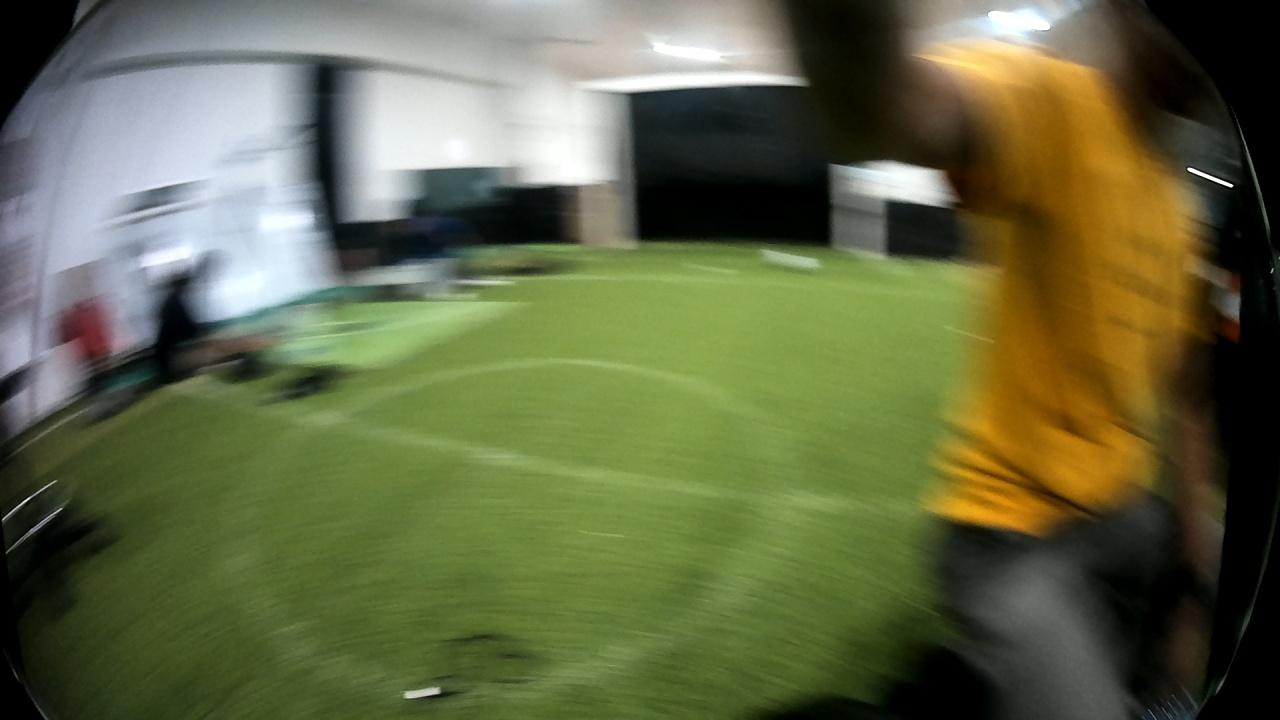ball: (763, 246, 822, 274)
